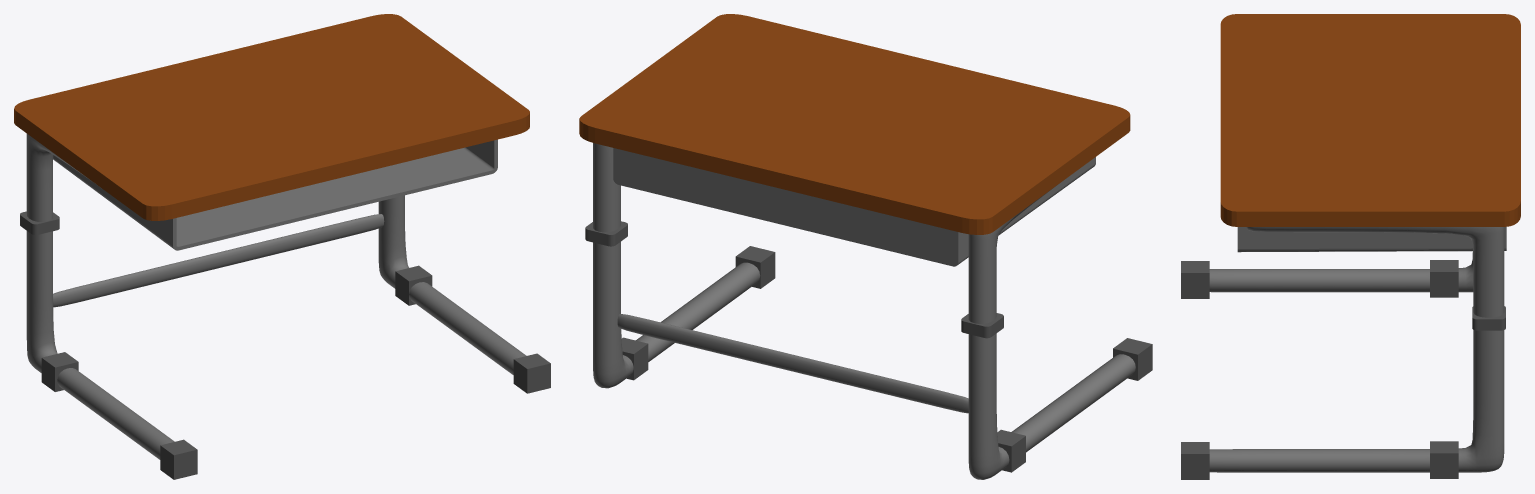
Rendered from table.fbx.
3 views of the same model, side by side, from view 1: azimuth 30°, elevation 25°; view 2: azimuth 150°, elevation 25°; view 3: azimuth 270°, elevation 25° (orthographic). The views are drawn at different scales.
Parts seen in each view (by area): view 1: Cube.278; view 2: Cube.278; view 3: Cube.278.
Part boxes in pixels (box(x1,y1,x2,y2)): Cube.278: box(14, 14, 550, 479); Cube.278: box(579, 14, 1152, 479); Cube.278: box(1181, 14, 1520, 479).
Size of the model in its own units: 104 by 66.59 by 75.78.
